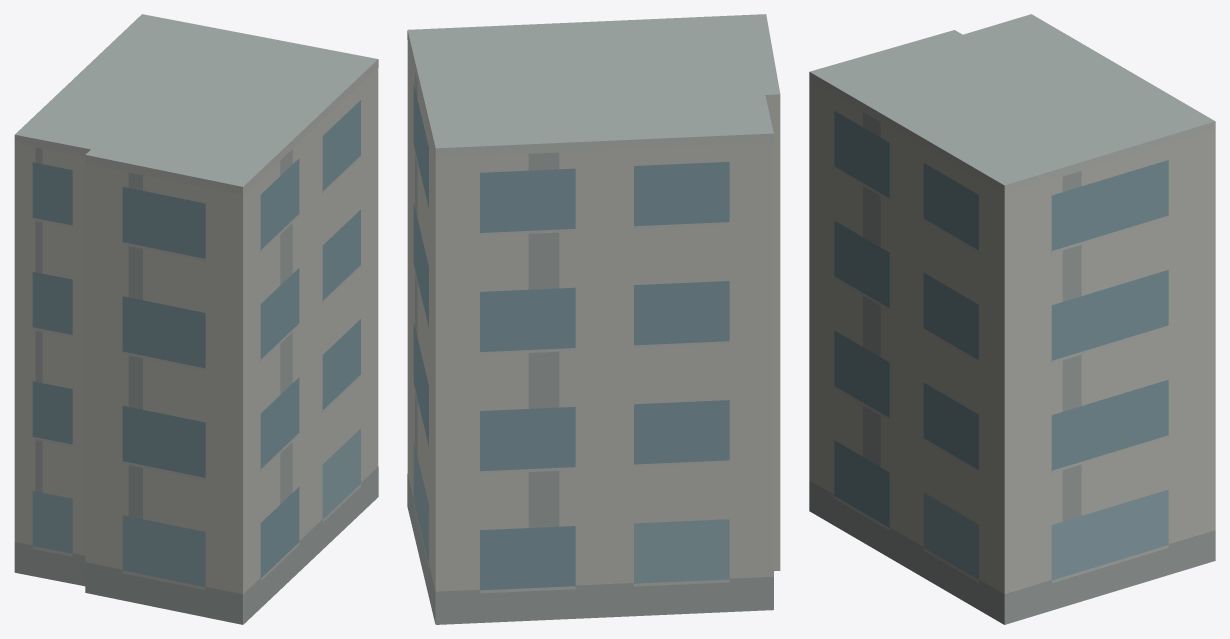
The model's file is residential-225408b6-495d-45bd-a9df-a2ef0a0be920.glb.
3 views of the same model, side by side, from view 1: azimuth 30°, elevation 25°; view 2: azimuth 150°, elevation 25°; view 3: azimuth 270°, elevation 25° (orthographic). The views are drawn at different scales.
Visible parts, largest first — view 1: residential-225408b6-495d-45bd-a9df-a2ef0a0be920.tmp; view 2: residential-225408b6-495d-45bd-a9df-a2ef0a0be920.tmp; view 3: residential-225408b6-495d-45bd-a9df-a2ef0a0be920.tmp.
Boxes of the visible parts, x1,y1,x2,y2 form: residential-225408b6-495d-45bd-a9df-a2ef0a0be920.tmp: (14, 14, 378, 624); residential-225408b6-495d-45bd-a9df-a2ef0a0be920.tmp: (407, 14, 780, 624); residential-225408b6-495d-45bd-a9df-a2ef0a0be920.tmp: (809, 14, 1215, 624).
Bounding box in the file's own units: 10.22 × 12.2 × 10.23.
